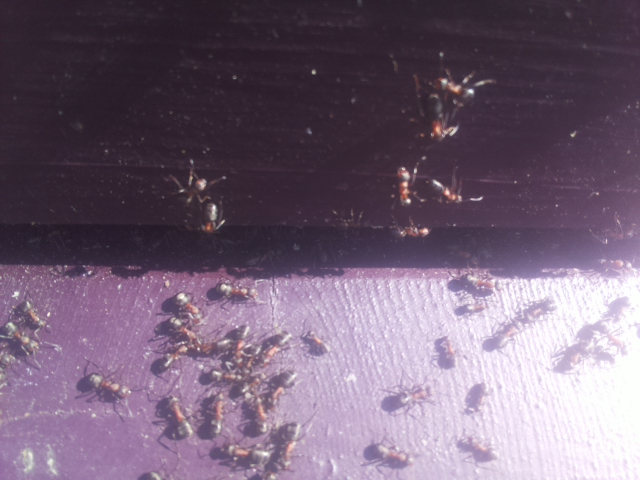ant: (164, 155, 232, 218), (429, 67, 499, 112), (418, 86, 465, 150), (78, 367, 136, 407), (379, 380, 438, 417), (149, 339, 194, 379), (421, 172, 470, 206), (363, 439, 417, 469), (213, 442, 273, 469), (275, 421, 308, 468), (1, 317, 37, 360), (164, 393, 195, 442), (173, 286, 205, 332), (195, 196, 225, 239), (460, 380, 492, 419), (260, 329, 295, 364), (17, 296, 50, 333), (453, 434, 499, 460), (432, 332, 459, 371), (215, 279, 257, 304), (393, 163, 417, 205), (208, 392, 226, 443), (387, 221, 434, 240), (205, 366, 250, 385), (464, 273, 503, 292), (452, 302, 489, 315)
